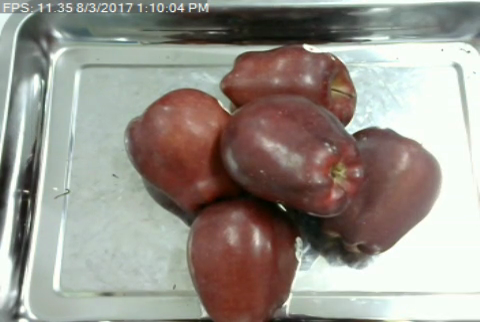Apple: (215, 93, 367, 219), (318, 121, 444, 256), (121, 84, 242, 221), (182, 193, 306, 322), (217, 43, 360, 121)
